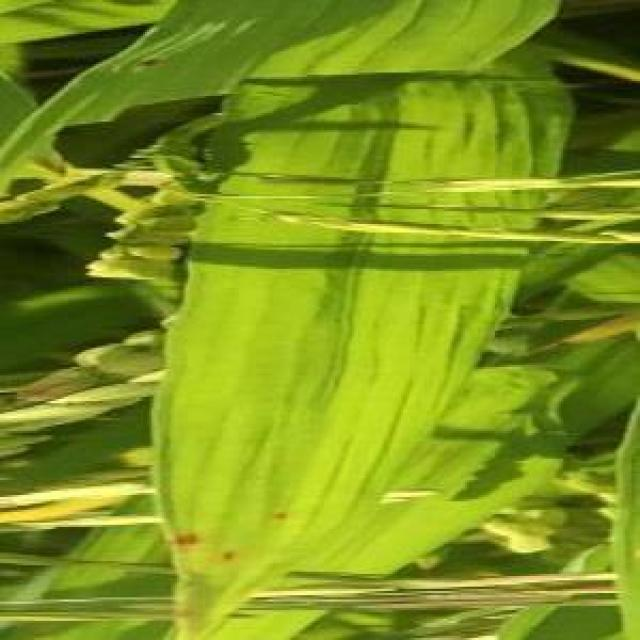Brown_Spot: (168, 527, 207, 552), (258, 508, 293, 530), (215, 544, 234, 566)
